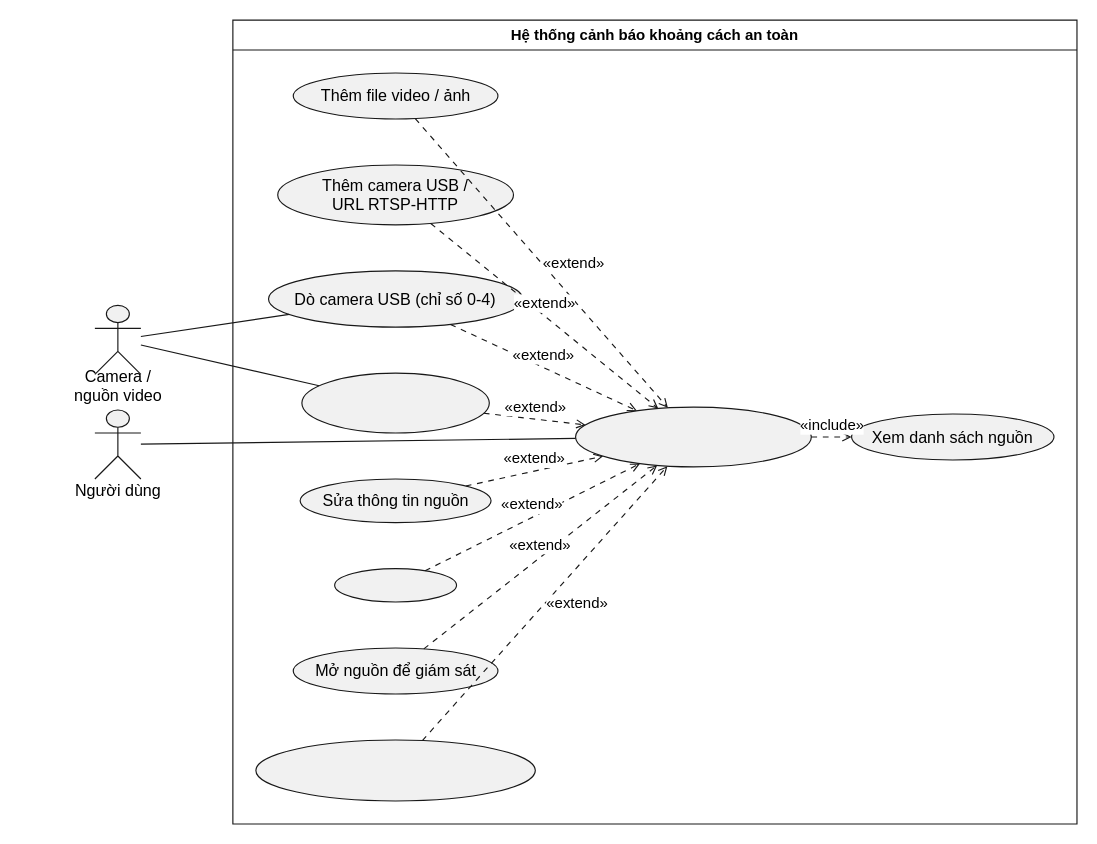
Image size: 1097x844. Some labels were removed from this diagram. Here are the shapes that lost their labels. From the top down, the centre of each, then its label:
At pixel 395 402: "Kiểm tra kết nối & xem trước".
At pixel 692 436: "UC01. Quản lý nguồn video/camera".
At pixel 395 585: "Xóa nguồn".
At pixel 395 770: "Mở nhanh: video / ảnh / camera / nguồn gần đây".
